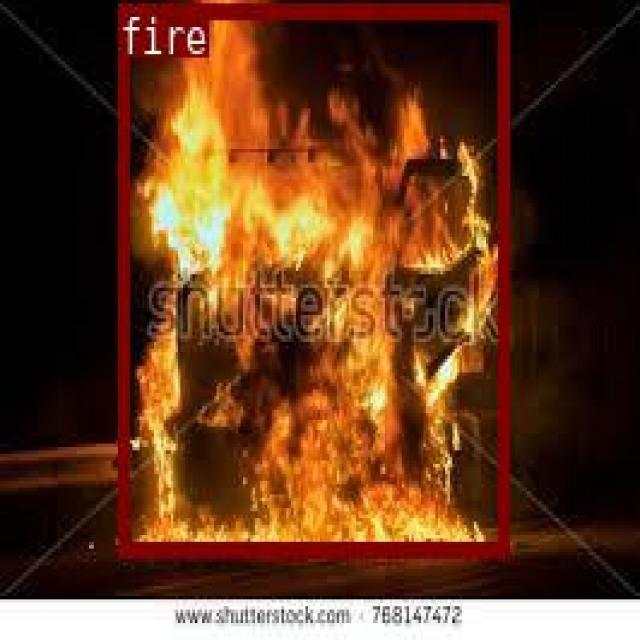fire: (117, 2, 506, 553)
